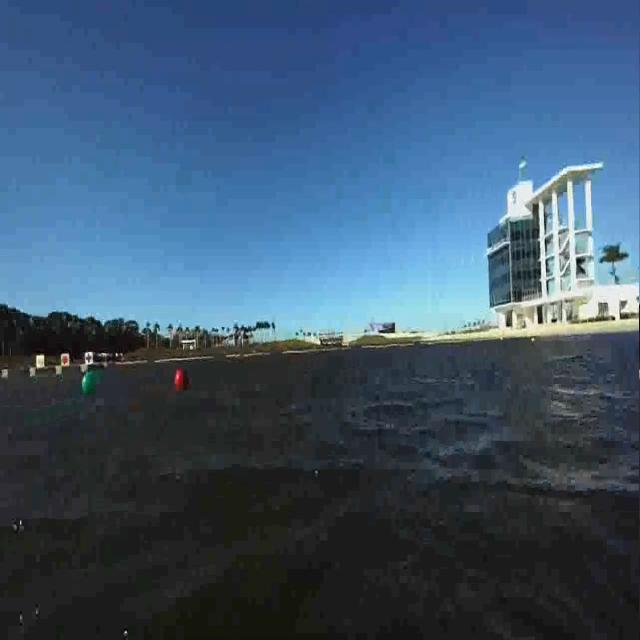green-buoy: (81, 374, 97, 396)
red-buoy: (169, 359, 191, 392)
